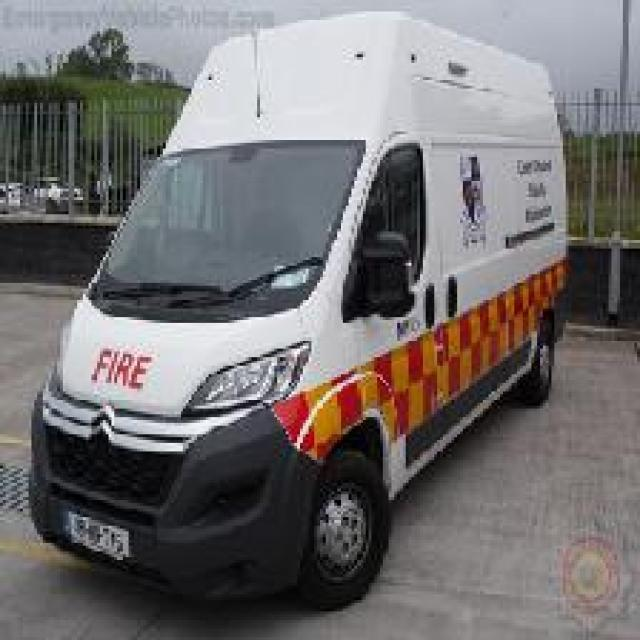emergency: (26, 10, 574, 612)
